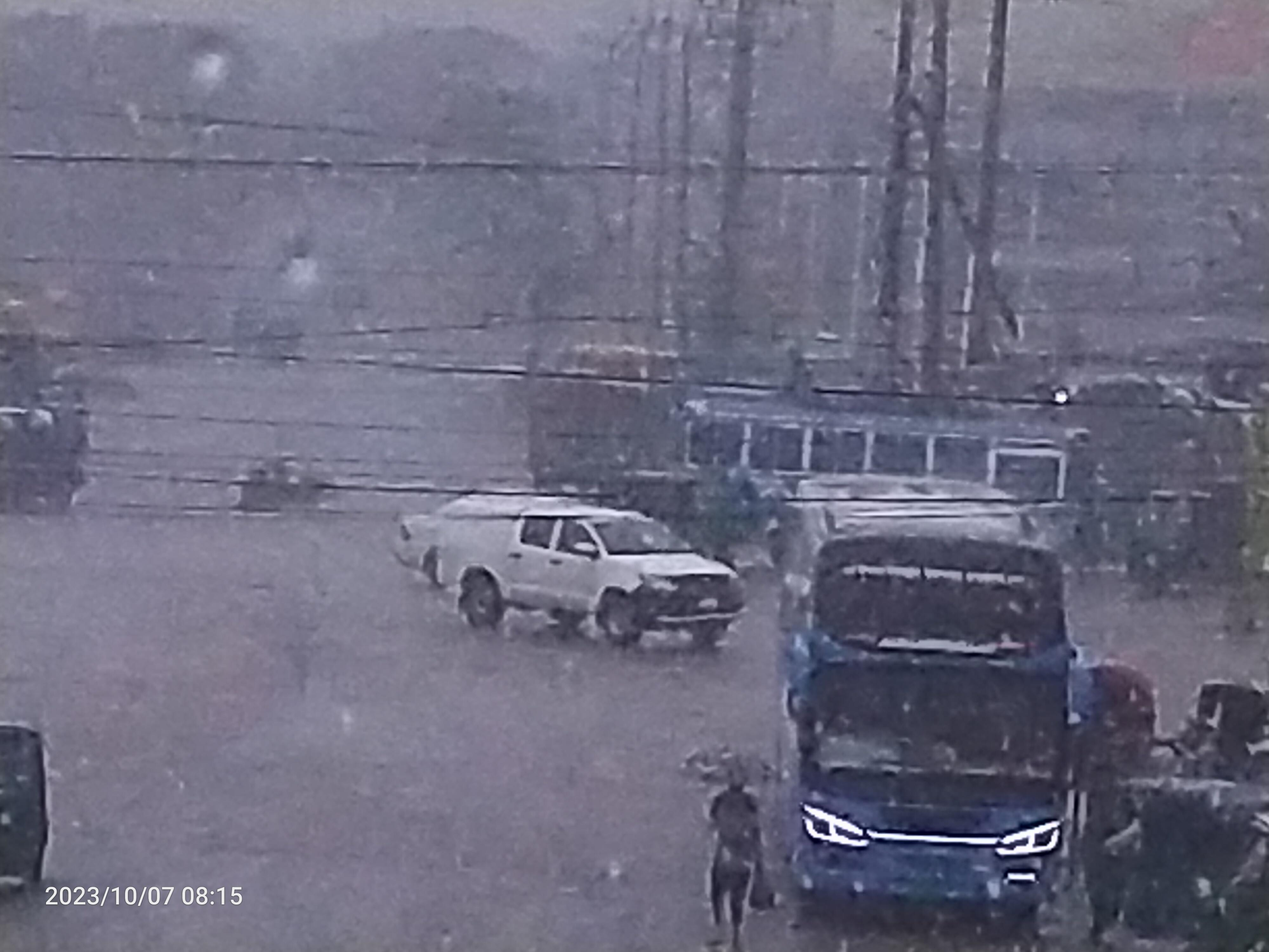Bus: (758, 453, 1107, 952), (657, 385, 1124, 578)
Car: (423, 488, 754, 677)
